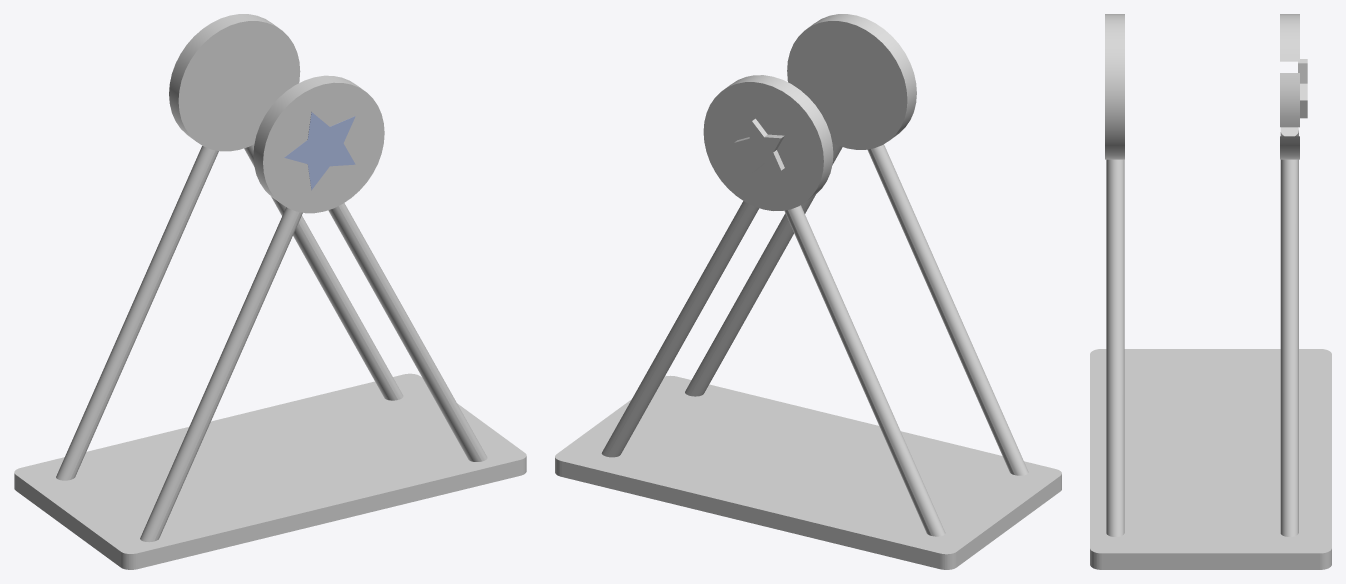
The model's file is FerrisWheel04.glb.
The picture shows the model from 3 angles, left to right: view 1: azimuth 30°, elevation 25°; view 2: azimuth 150°, elevation 25°; view 3: azimuth 270°, elevation 25°; orthographic projection. The views are drawn at different scales.
Visible parts, largest first — view 1: FerrisWheel00, FerrisWheel01, Star; view 2: FerrisWheel00, FerrisWheel01; view 3: FerrisWheel00, FerrisWheel01.
Boxes of the visible parts, <box> form: FerrisWheel00: <box>14,373,526,569</box>; FerrisWheel01: <box>56,14,487,542</box>; Star: <box>284,112,355,190</box>; FerrisWheel00: <box>555,375,1061,569</box>; FerrisWheel01: <box>601,14,1028,536</box>; FerrisWheel00: <box>1090,349,1331,569</box>; FerrisWheel01: <box>1105,14,1307,536</box>.
Size of the model in its own units: 2 by 2.04 by 1.
